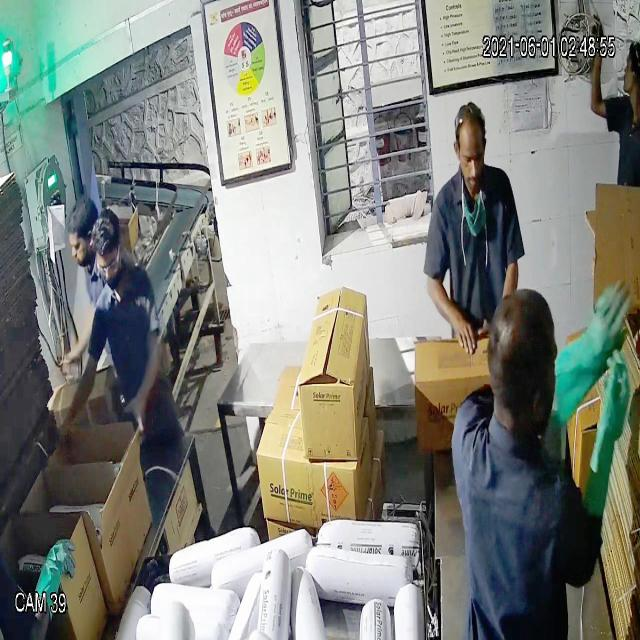glasses: (94, 246, 122, 284)
no-glass: (448, 137, 496, 176)
